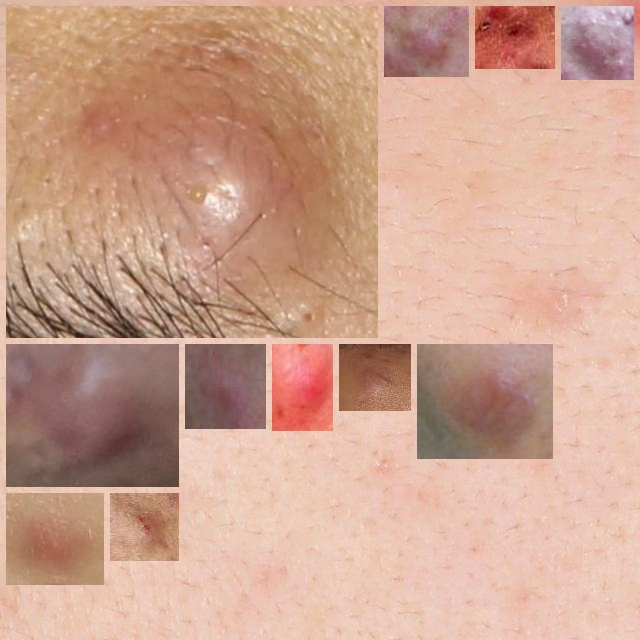nodule: (14, 14, 370, 330), (14, 352, 171, 479), (425, 352, 545, 451), (14, 501, 96, 577), (193, 352, 258, 421), (392, 14, 461, 69), (569, 14, 626, 72), (280, 352, 325, 423), (483, 14, 547, 61), (347, 352, 403, 403), (118, 501, 171, 553)
